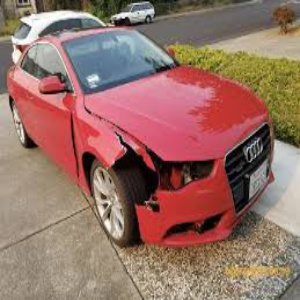bumper: (134, 166, 234, 249)
